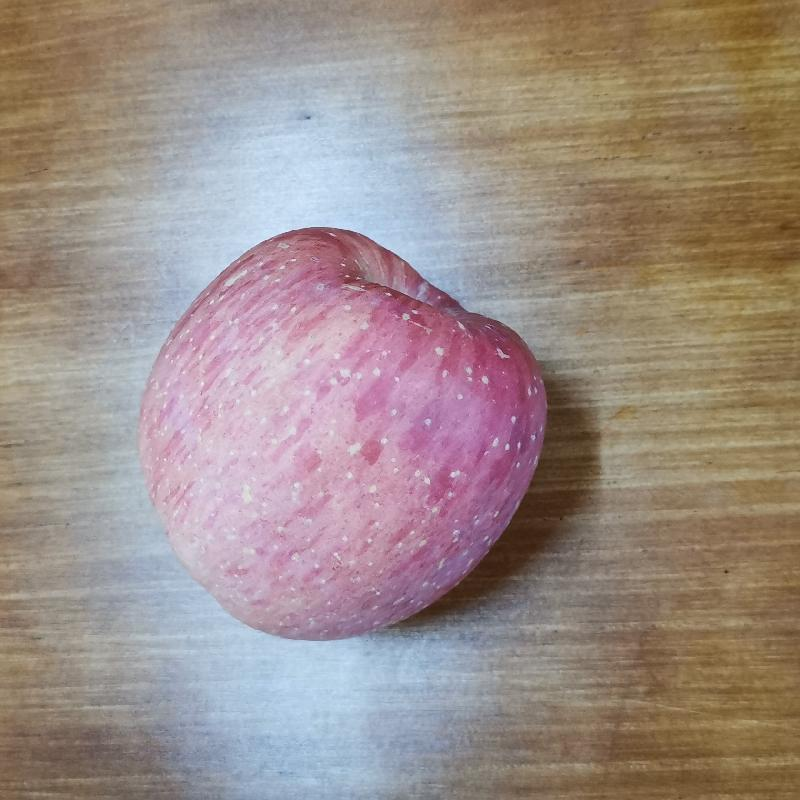apples: (122, 230, 559, 642)
